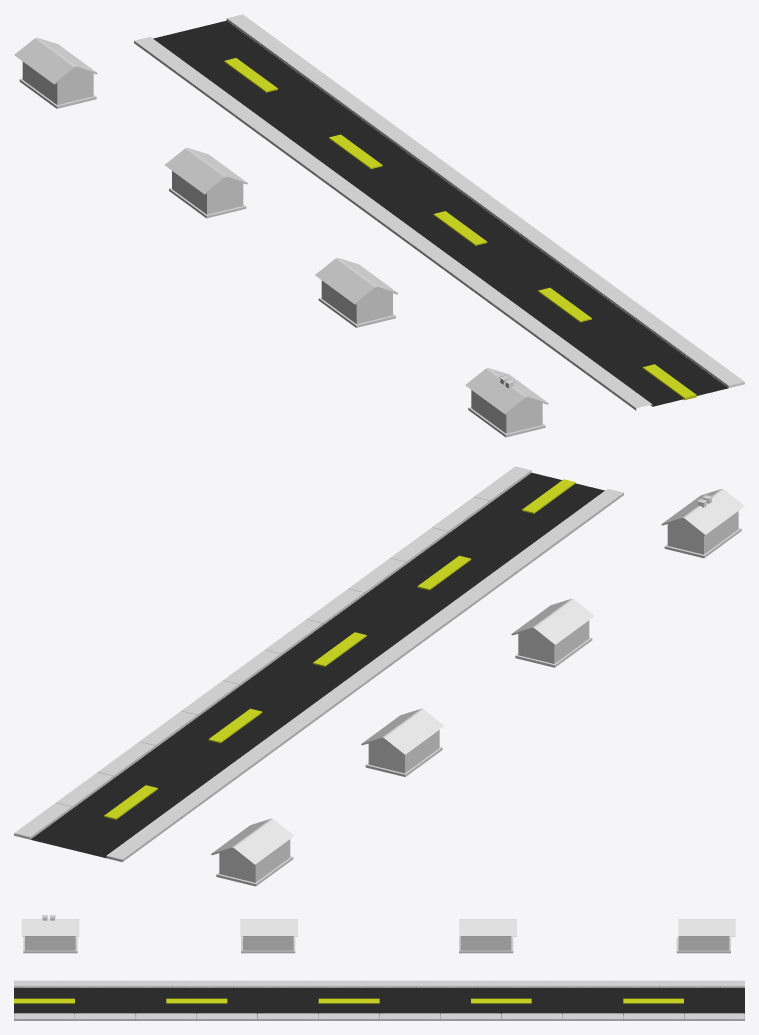
Rendered from Road_withhouses.fbx.
3 renders of one model, top to bottom at view 1: azimuth 30°, elevation 25°; view 2: azimuth 150°, elevation 25°; view 3: azimuth 270°, elevation 25°, orthographic. The views are drawn at different scales.
Parts seen in each view (by area): view 1: Road, Sidewalk.001, Sidewalk, Cube.003, Cube.001, median; view 2: Road, Sidewalk.001, Sidewalk, Cube.003, Cube.001, median; view 3: Road, Sidewalk, Sidewalk.001, Cube.001, Cube.003, median.
Boxes of the visible parts, <box> form: Road: <box>153,20,727,406</box>; Sidewalk.001: <box>134,37,652,410</box>; Sidewalk: <box>226,14,744,388</box>; Cube.003: <box>19,61,545,437</box>; Cube.001: <box>14,37,548,414</box>; median: <box>224,58,696,400</box>; Road: <box>30,473,604,857</box>; Sidewalk.001: <box>106,489,623,862</box>; Sidewalk: <box>14,466,531,839</box>; Cube.003: <box>216,511,741,886</box>; Cube.001: <box>211,489,744,865</box>; median: <box>104,479,575,819</box>; Road: <box>14,988,744,1014</box>; Sidewalk: <box>14,1013,744,1020</box>; Sidewalk.001: <box>14,980,744,987</box>; Cube.001: <box>21,919,735,936</box>; Cube.003: <box>23,936,730,953</box>; median: <box>14,998,683,1003</box>.
Size of the model in its own units: 1946 by 322 by 7200.
